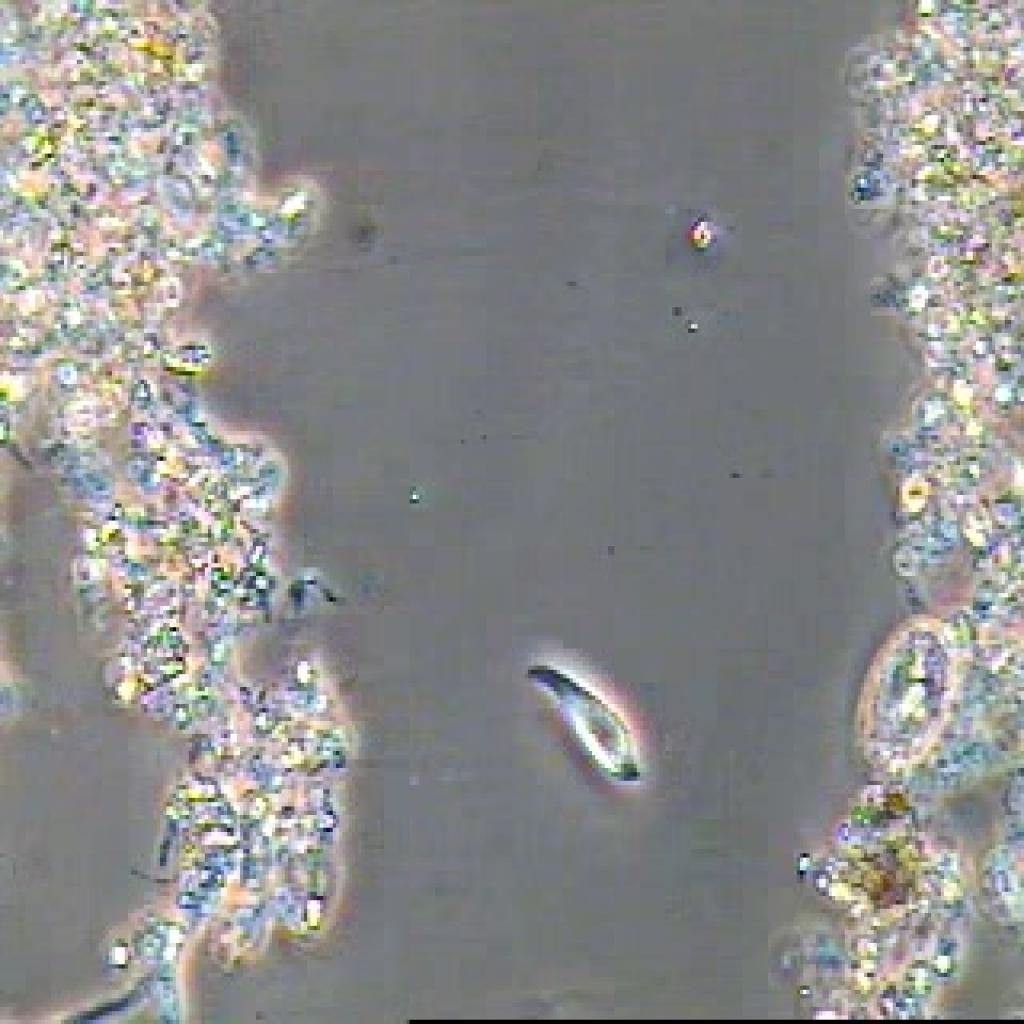Pristina: (520, 648, 658, 794)
